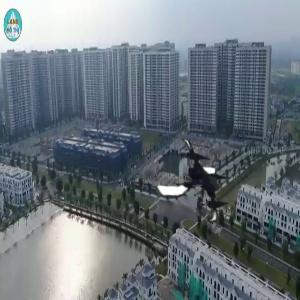drone: (145, 135, 237, 227)
